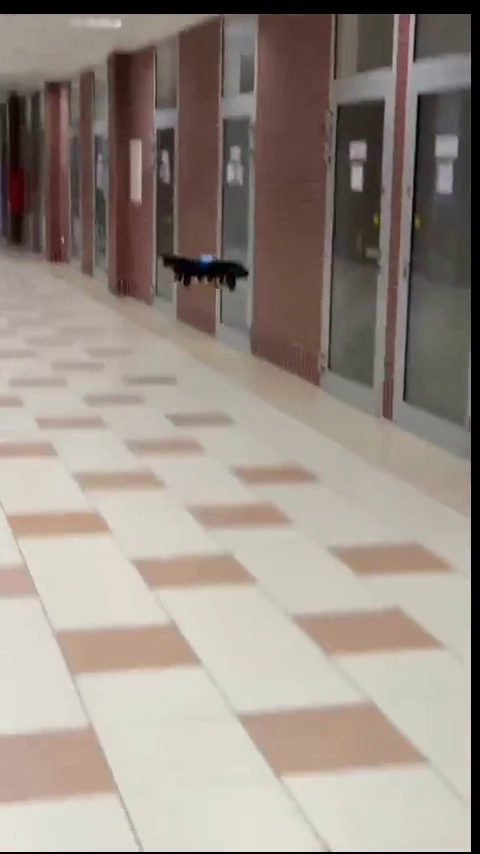drone: (158, 252, 249, 292)
